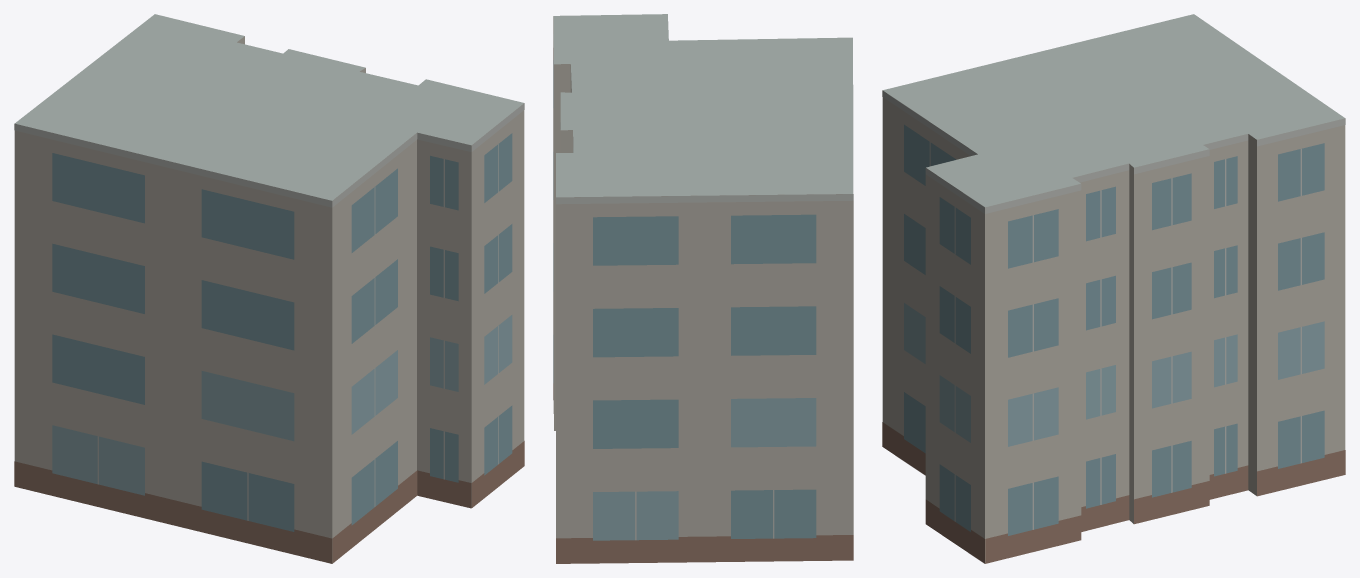
The model's file is survey-upis-32530824.glb.
3 views of the same model, side by side, from view 1: azimuth 30°, elevation 25°; view 2: azimuth 150°, elevation 25°; view 3: azimuth 270°, elevation 25° (orthographic). The views are drawn at different scales.
Visible parts, largest first — view 1: survey-upis-32530824.tmp; view 2: survey-upis-32530824.tmp; view 3: survey-upis-32530824.tmp.
Part boxes in pixels (left/top/right/bottom): survey-upis-32530824.tmp: left=14, top=14, right=524, bottom=563; survey-upis-32530824.tmp: left=553, top=14, right=853, bottom=563; survey-upis-32530824.tmp: left=882, top=14, right=1345, bottom=563.
Size of the model in its own units: 15.11 by 12.98 by 15.29.
